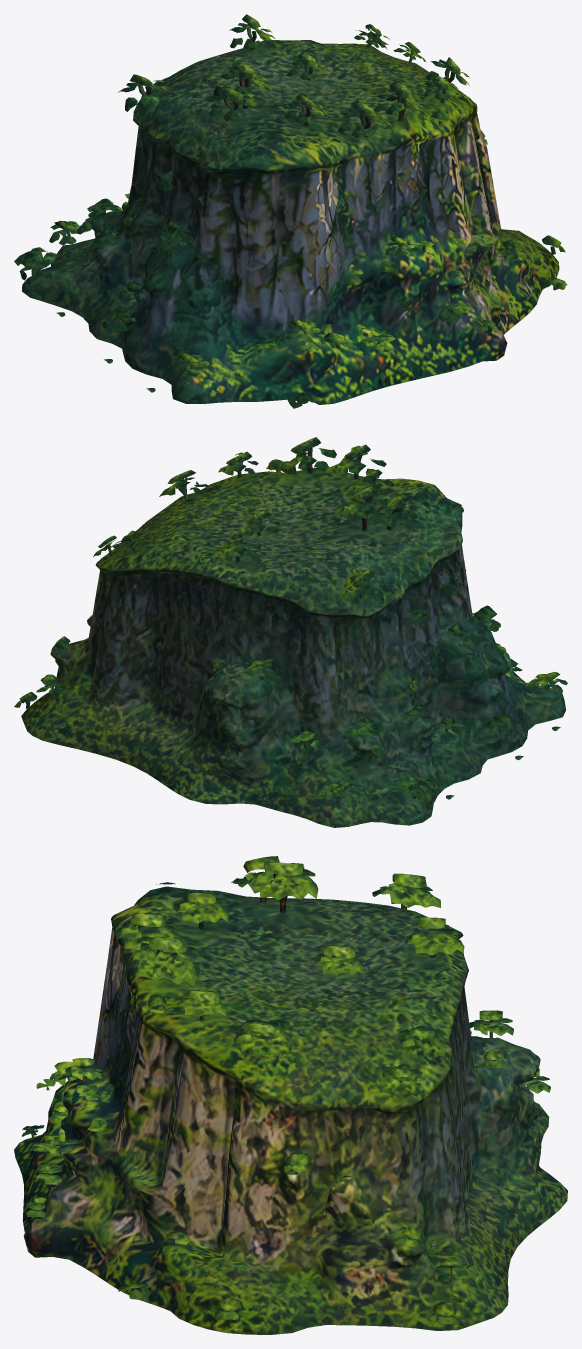
The model's file is rocky+cliff+island+3d+model.fbx.
3 renders of one model, top to bottom at view 1: azimuth 30°, elevation 25°; view 2: azimuth 150°, elevation 25°; view 3: azimuth 270°, elevation 25°, orthographic. The views are drawn at different scales.
Visible parts, largest first — view 1: tripo_3012ea26_1e2f_404d_aeda_f1438b6eca9b; view 2: tripo_3012ea26_1e2f_404d_aeda_f1438b6eca9b; view 3: tripo_3012ea26_1e2f_404d_aeda_f1438b6eca9b.
Boxes of the visible parts, bbox=[...] form: tripo_3012ea26_1e2f_404d_aeda_f1438b6eca9b: bbox=[14, 14, 567, 408]; tripo_3012ea26_1e2f_404d_aeda_f1438b6eca9b: bbox=[14, 437, 567, 827]; tripo_3012ea26_1e2f_404d_aeda_f1438b6eca9b: bbox=[14, 856, 567, 1334].
Bounding box in the file's own units: 0.9995 × 0.5405 × 0.8931.
